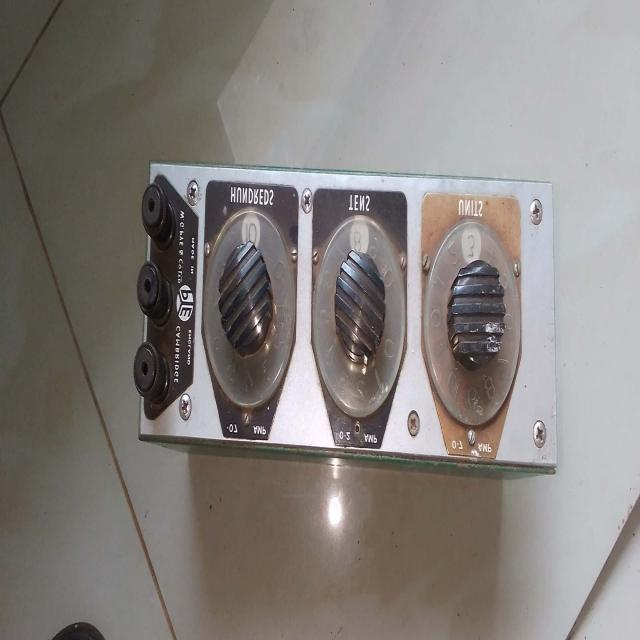Dial Resistance Box: (132, 159, 580, 495)
